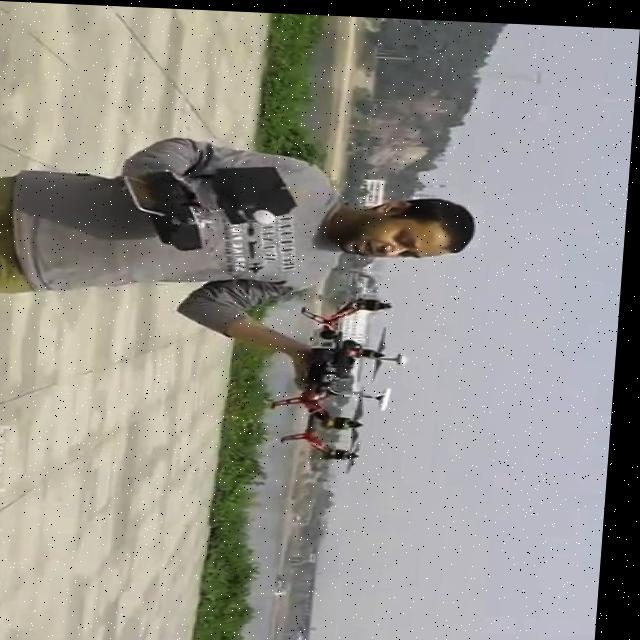drone: (272, 284, 421, 474)
